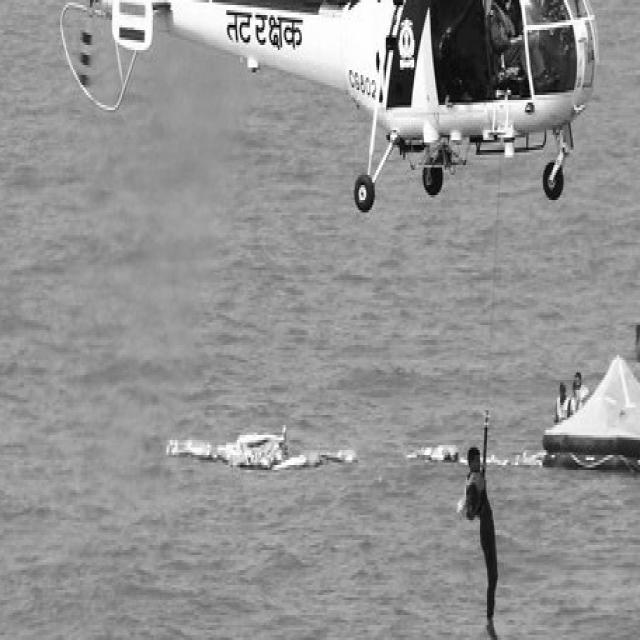helicopter: (48, 1, 640, 238)
